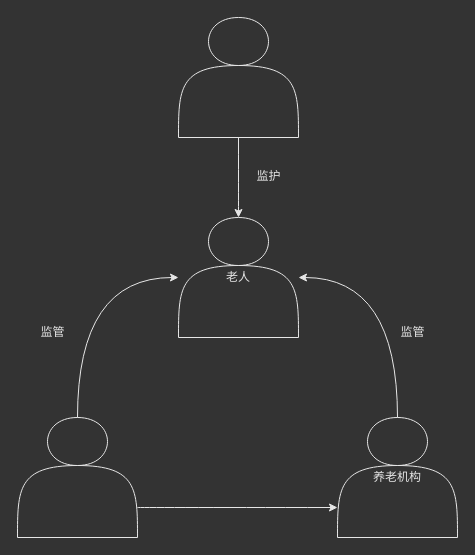
The diagram is 475 pixels wide and 555 high, and some of its shapes have lost their labels. The shapes that lost their labels are listed below. From the top down, each one's centre as x and y in pixels, then its label:
At [238,77]: "家属".
At [77,477]: "监管部门".
